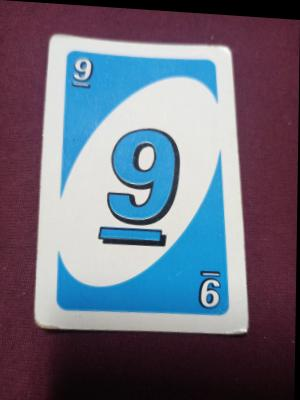blue: (60, 48, 228, 319)
num_9: (196, 265, 227, 309), (67, 52, 98, 92)
